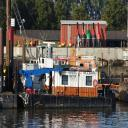tugboat: (20, 44, 119, 111)
